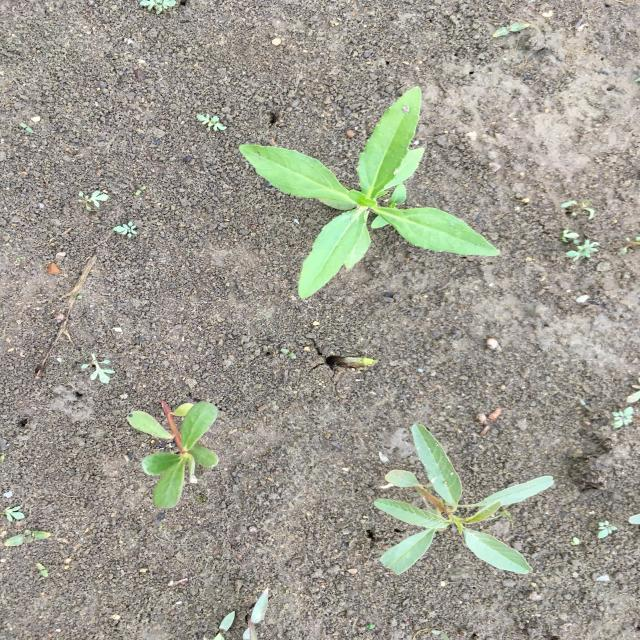Eclipta: (237, 85, 502, 302)
Purslane: (124, 397, 221, 509)
Waterhemp: (373, 422, 556, 576)
